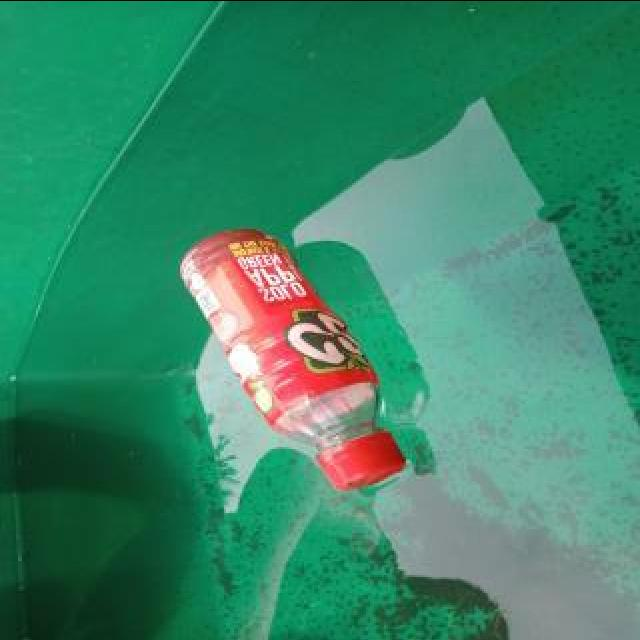Bottle: (172, 222, 414, 498)
